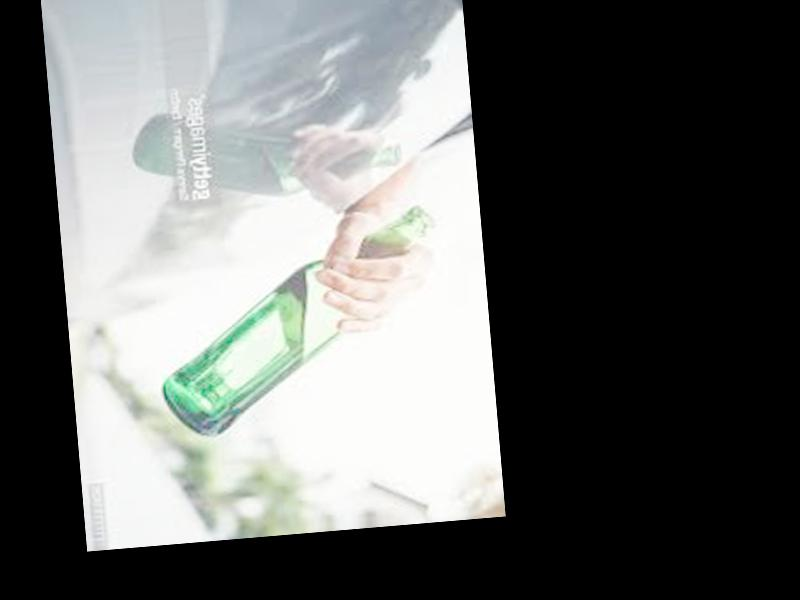Beer: (146, 201, 448, 438)
